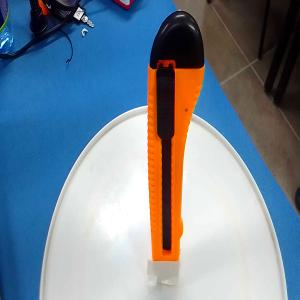estilete: (147, 10, 205, 262)
